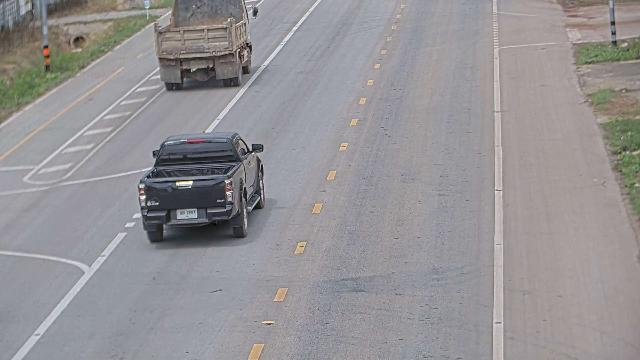pickup-truck: (137, 131, 265, 243)
truck: (154, 0, 266, 92)
